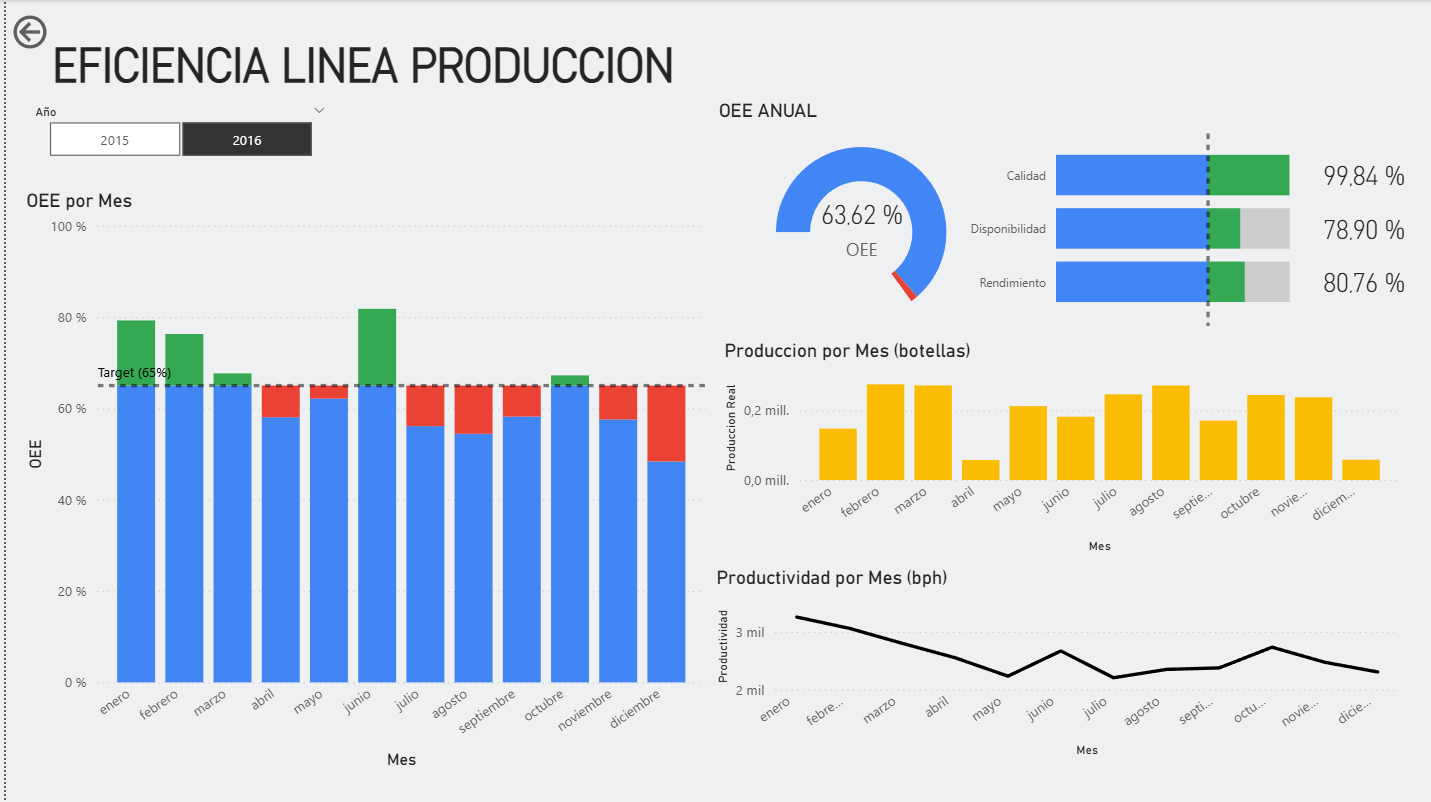

Layout of this report page (visuals, bound fields, positions):
{"tool":"powerbi","page":{"name":"ANUAL","canvas":[1280,720],"ordinal":1},"visuals":[{"type":"slicer","fields":{"Values":["Tabla_Calendario_d.Fecha.Variación.Jerarquía de fechas.Año"]},"box":[13.8,89.1,285.3,58.3],"z":0},{"type":"card","title":"RENDIMIENTO","fields":{"Values":["DAX.RENDIMIENTO"]},"box":[1158.2,234.6,122.1,37.1],"z":0,"group":"g1"},{"type":"card","title":"DISPONIBILIDAD","fields":{"Values":["DAX.DISPONIBILIDAD"]},"box":[1158.2,187,122.1,36.2],"z":1000,"group":"g1"},{"type":"columnChart","title":"OEE por Mes","fields":{"Y":["DAX.OEE Base","DAX.OEE Superado","DAX.OEE Faltante"],"Category":["Tabla_Calendario_d.Fecha.Variación.Jerarquía de fechas.Mes"]},"box":[13.8,169.7,619.3,524.9],"z":1000},{"type":"card","title":"CALIDAD","fields":{"Values":["DAX.CALIDAD"]},"box":[1158.2,137.4,122.1,39.1],"z":2000,"group":"g1"},{"type":"lineChart","title":"Productividad por Mes (bph)","fields":{"Y":["DAX.Productividad"],"Category":["Tabla_Calendario_d.Fecha.Variación.Jerarquía de fechas.Mes"]},"box":[633.1,508,622.5,176],"z":2000},{"type":"donutChart","title":"OEE ANUAL","fields":{"Category":["Anillo OEE.Sección"],"Y":["DAX.Valor Anillo"]},"box":[640.5,89.1,255.3,215.3],"z":3000,"group":"g1"},{"type":"columnChart","title":"Produccion por Mes (botellas)","fields":{"Category":["Tabla_Calendario_d.Fecha.Variación.Jerarquía de fechas.Mes"],"Y":["DAX.Produccion Real"]},"box":[640.1,304.3,615.9,196.6],"z":3000},{"type":"card","title":"OEE","fields":{"Values":["DAX.OEE"]},"box":[721.2,169.6,94.9,65],"z":4000,"group":"g1"},{"type":"group","id":"g1","title":"Grupo 1","box":[640.5,89.1,639.5,215.3],"z":4000},{"type":"barChart","fields":{"Y":["DAX.Valor Verde","DAX.Valor Rojo","DAX.Indicador Superado","DAX.Indicador vacio"],"Category":["Indicadores.Nombre"]},"box":[855.3,107,303,190.5],"z":5000,"group":"g1"},{"type":"textbox","box":[36.8,28.7,1242.5,72.7],"z":5000},{"type":"actionButton","box":[1.8,9,41.3,39.5],"z":6000}]}

Visuals, with their boxes in screenshot pixels (x1, y1, x2, y2), scaled from the page's 1280x720 canvas onto the 1431x802 screenshot:
slicer - Tabla_Calendario_d.Fecha.Variación.Jerarquía de fechas.Año: select_region(15, 99, 334, 164)
"RENDIMIENTO" card: select_region(1295, 261, 1430, 303)
"DISPONIBILIDAD" card: select_region(1295, 208, 1430, 249)
"OEE por Mes" columnChart: select_region(15, 189, 708, 774)
"CALIDAD" card: select_region(1295, 153, 1430, 197)
"Productividad por Mes (bph)" lineChart: select_region(708, 566, 1404, 762)
"OEE ANUAL" donutChart: select_region(716, 99, 1001, 339)
"Produccion por Mes (botellas)" columnChart: select_region(716, 339, 1404, 558)
"OEE" card: select_region(806, 189, 912, 261)
"Grupo 1" group: select_region(716, 99, 1430, 339)
barChart - DAX.Valor Verde x DAX.Valor Rojo: select_region(956, 119, 1295, 331)
textbox: select_region(41, 32, 1430, 113)
actionButton: select_region(2, 10, 48, 54)
